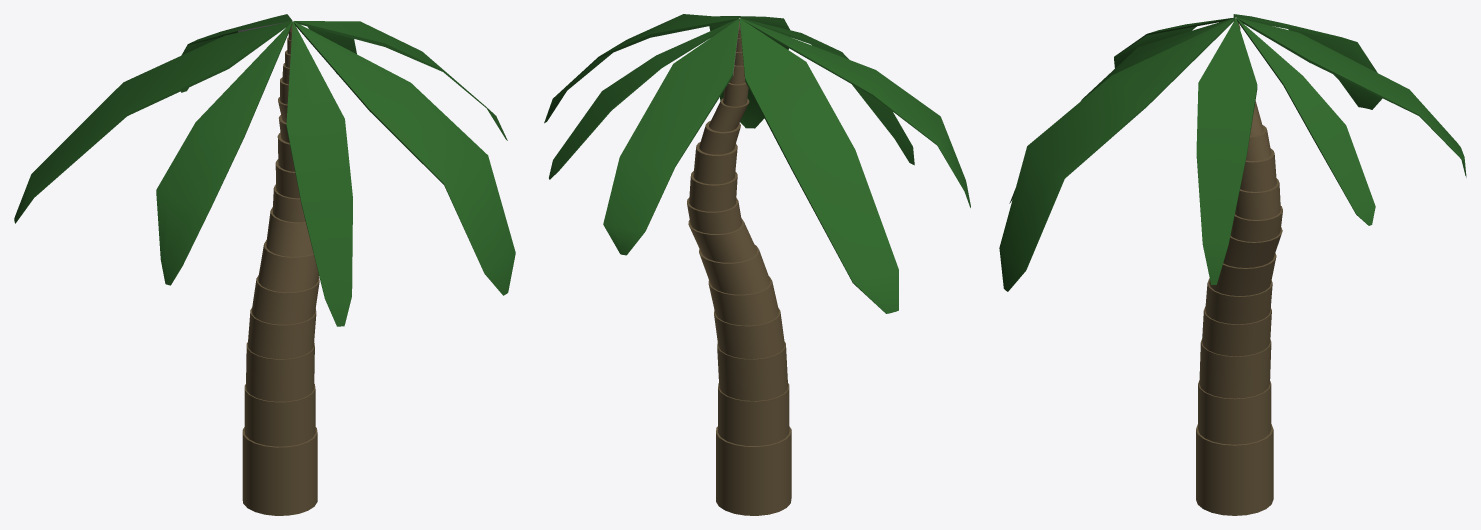
File: Palmera.fbx
3 views of the same model, side by side, from view 1: azimuth 30°, elevation 25°; view 2: azimuth 150°, elevation 25°; view 3: azimuth 270°, elevation 25° (orthographic). The views are drawn at different scales.
Visible parts, largest first — view 1: pCylinder1; view 2: pCylinder1; view 3: pCylinder1.
Boxes of the visible parts, x1=… form: pCylinder1: x1=14, y1=14, x2=515, y2=515; pCylinder1: x1=544, y1=14, x2=970, y2=515; pCylinder1: x1=999, y1=14, x2=1466, y2=515.
Bounding box in the file's own units: 12.88 × 13.88 × 12.03.
